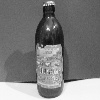beer: (33, 3, 64, 100)
